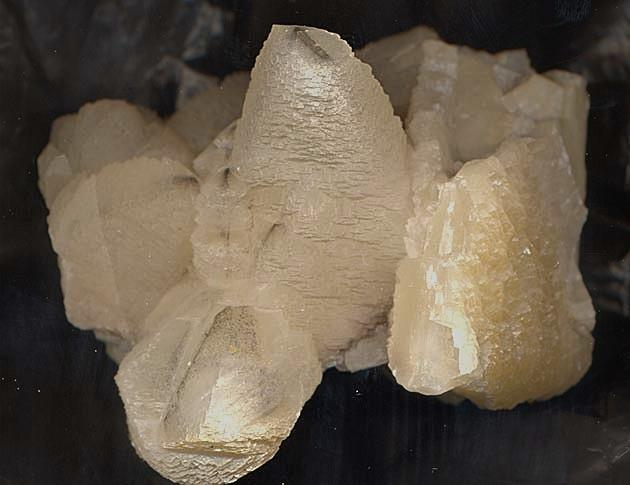calcite: (37, 25, 596, 484)
